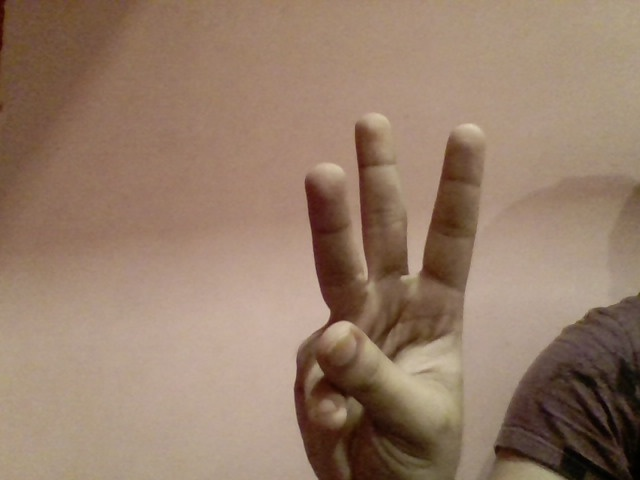w: (277, 100, 490, 480)
